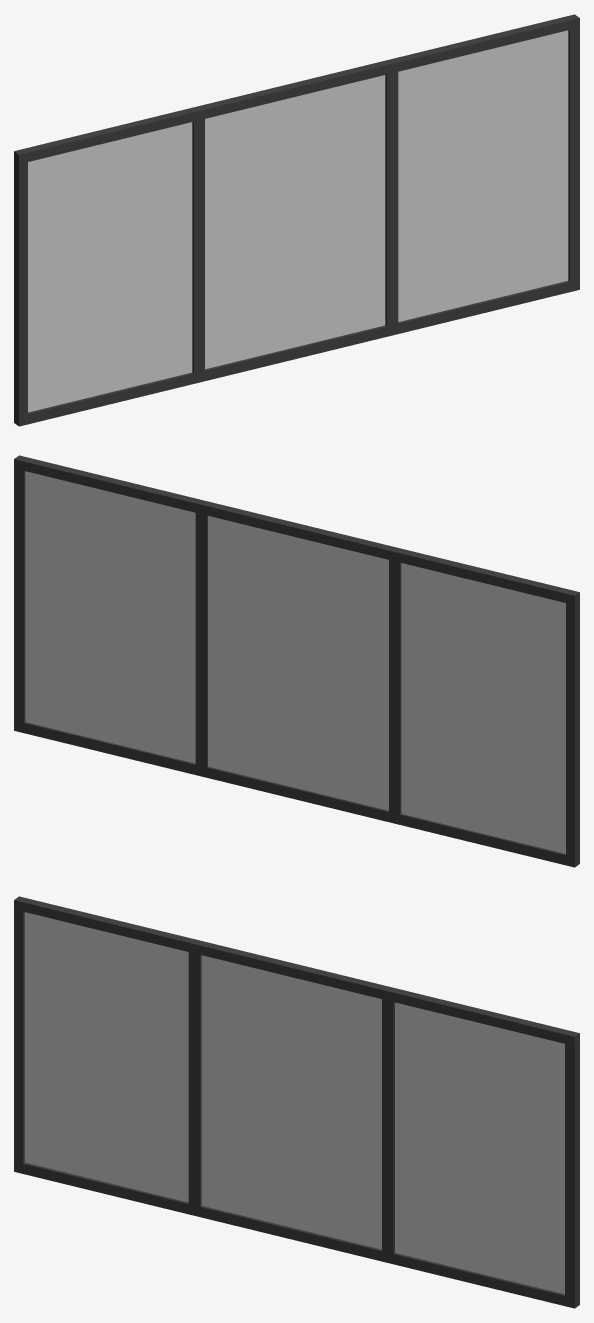
The model's file is okno1.1.glb.
3 renders of one model, top to bottom at view 1: azimuth 30°, elevation 25°; view 2: azimuth 150°, elevation 25°; view 3: azimuth 330°, elevation 25°, orthographic.
Parts seen in each view (by area): view 1: Cube.057, Cube.055; view 2: Cube.057, Cube.055; view 3: Cube.057, Cube.055.
Part boxes in pixels (<box>): Cube.057: <box>28,30,568,412</box>; Cube.055: <box>14,14,579,426</box>; Cube.057: <box>25,471,565,853</box>; Cube.055: <box>14,455,579,867</box>; Cube.057: <box>24,912,564,1294</box>; Cube.055: <box>14,896,579,1308</box>.
Bounding box in the file's own units: 12.29 × 5.69 × 0.1948.
Materials: 2 (1 with a texture image).
